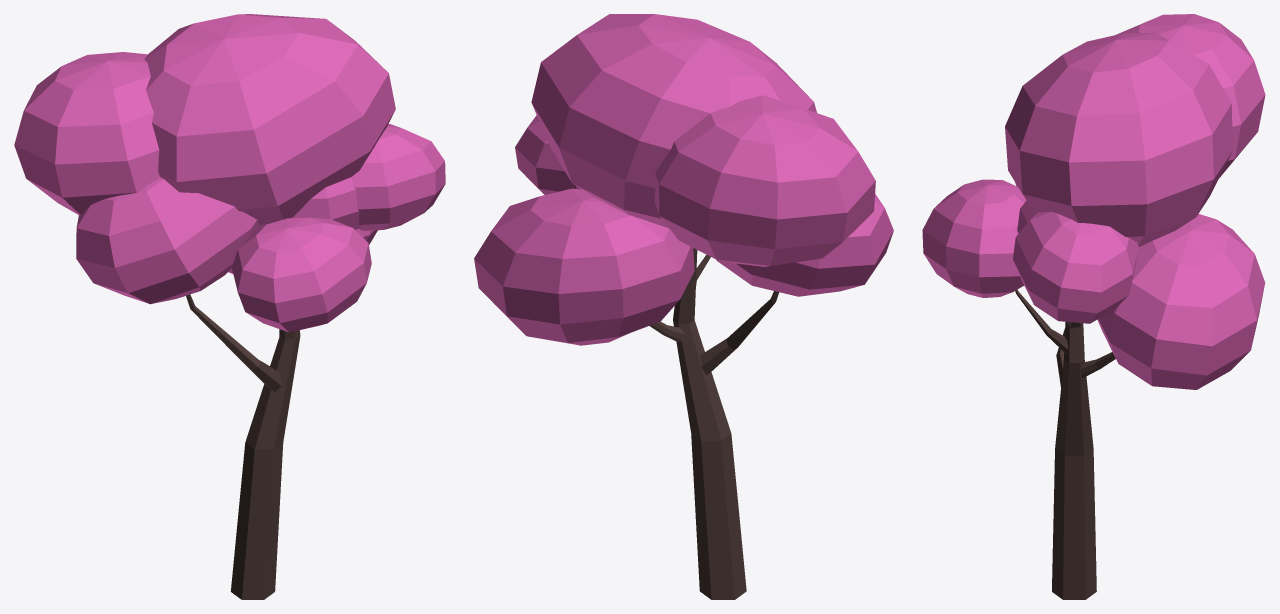
Rendered from Arvore.fbx.
3 views of the same model, side by side, from view 1: azimuth 30°, elevation 25°; view 2: azimuth 150°, elevation 25°; view 3: azimuth 270°, elevation 25° (orthographic). The views are drawn at different scales.
Parts seen in each view (by area): view 1: Circle; view 2: Circle; view 3: Circle.
Boxes of the visible parts, x1,y1,x2,y2 form: Circle: (14,14,445,599); Circle: (474,14,893,599); Circle: (922,14,1265,599).
Size of the model in its own units: 364 by 518 by 293.
